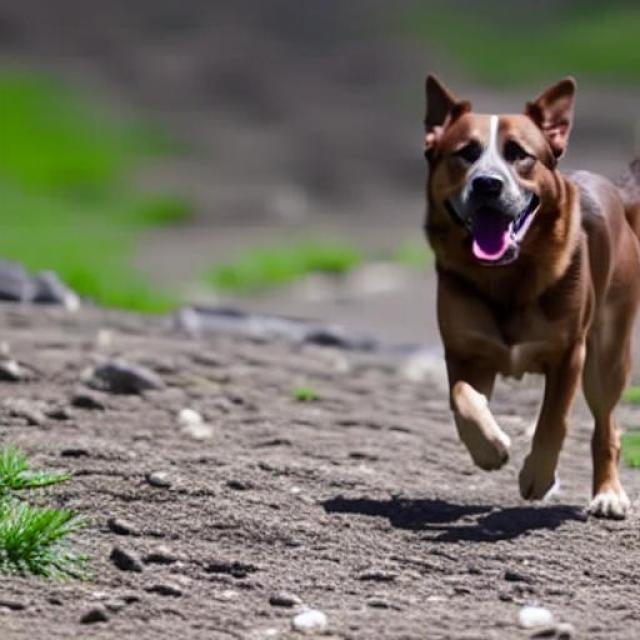Dog: (420, 72, 640, 521)
